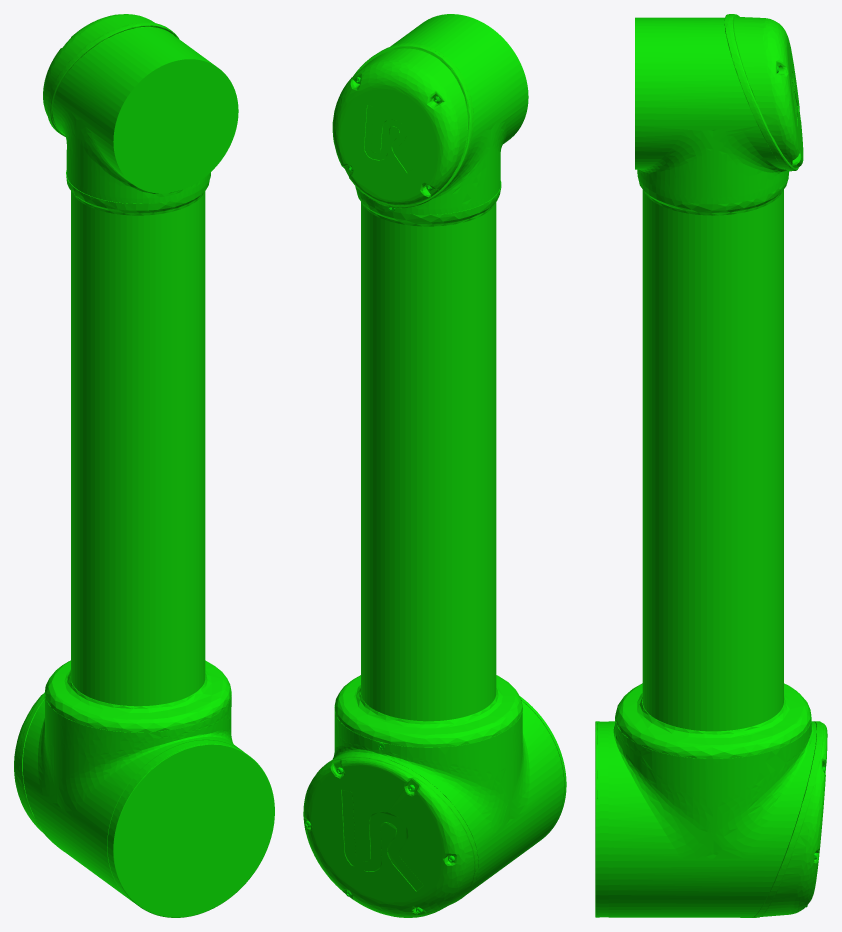
The model's file is upperarmG.dae.
The picture shows the model from 3 angles, left to right: view 1: azimuth 30°, elevation 25°; view 2: azimuth 150°, elevation 25°; view 3: azimuth 270°, elevation 25°; orthographic projection. The views are drawn at different scales.
Parts seen in each view (by area): view 1: node-shape3-name, node-shape0-name, node-shape1-name; view 2: node-shape3-name, node-shape1-name, node-shape0-name; view 3: node-shape3-name, node-shape0-name, node-shape1-name.
Boxes of the visible parts, x1=… form: node-shape3-name: x1=45, y1=170, x2=231, y2=732; node-shape0-name: x1=23, y1=27, x2=274, y2=917; node-shape1-name: x1=14, y1=14, x2=178, y2=851; node-shape3-name: x1=334, y1=181, x2=522, y2=747; node-shape1-name: x1=303, y1=43, x2=478, y2=917; node-shape0-name: x1=332, y1=14, x2=566, y2=894; node-shape3-name: x1=615, y1=171, x2=810, y2=758; node-shape0-name: x1=595, y1=17, x2=816, y2=917; node-shape1-name: x1=724, y1=14, x2=827, y2=917.
Size of the model in its own units: 0.1503 by 0.1772 by 0.7479.
